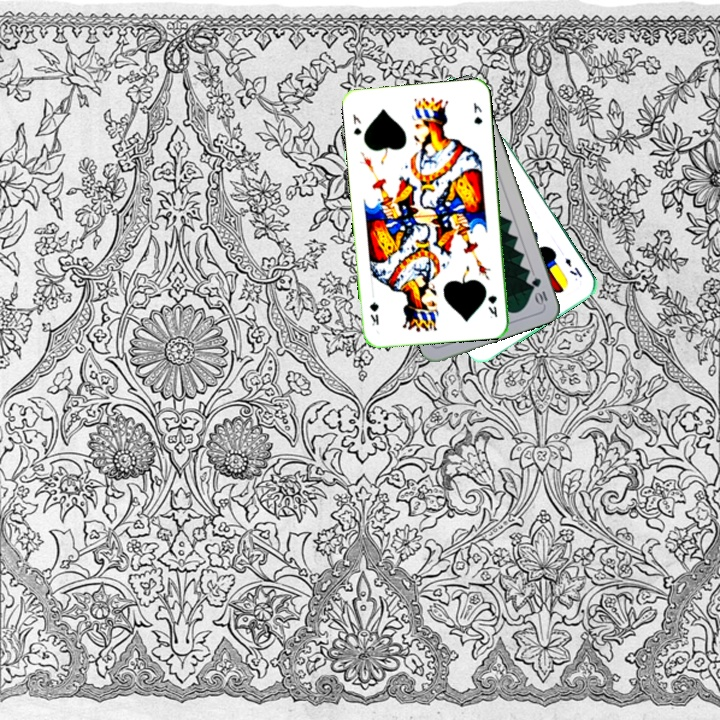EK: (561, 254, 585, 280)
G10: (528, 273, 550, 307)
GK: (484, 291, 500, 320), (349, 110, 364, 137)
